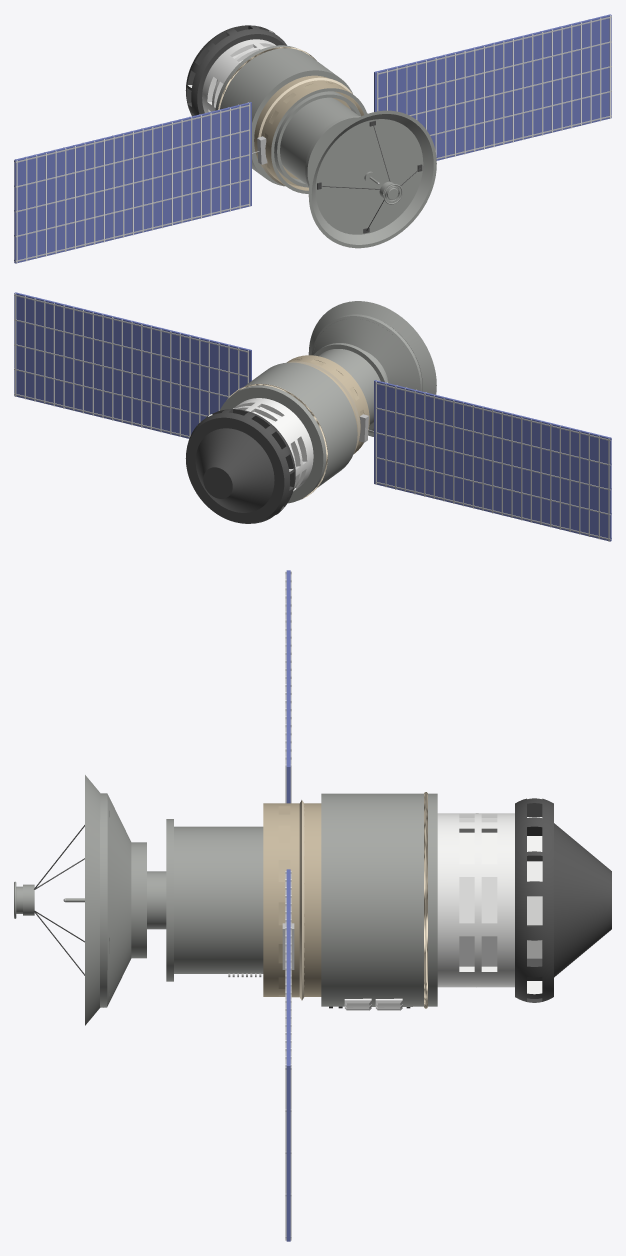
Rendered from satTest02.glb.
The picture shows the model from 3 angles, top to bottom: view 1: azimuth 30°, elevation 25°; view 2: azimuth 150°, elevation 25°; view 3: azimuth 270°, elevation 25°; orthographic projection. The views are drawn at different scales.
Visible parts, largest first — view 1: Body175, Body66, Body43, Body4, Body25, Body27, Body1, Body3, Body26, Body28, Body30, Body203 (+8 smaller); view 2: Body175, Body66, Body4, Body2, Body1, Body42, Body43, Body3, Body27, Body25, Body28, Body170 (+11 smaller); view 3: Body4, Body3, Body27, Body25, Body1, Body2, Body42, Body43, Body66, Body44, Body28, Body39 (+4 smaller).
Part boxes in pixels (left/top/right/bottom): Body175: left=14, top=102, right=251, bottom=263; Body66: left=374, top=14, right=611, bottom=160; Body43: left=308, top=110, right=436, bottom=248; Body4: left=215, top=45, right=352, bottom=186; Body25: left=254, top=75, right=367, bottom=193; Body27: left=280, top=97, right=358, bottom=185; Body1: left=185, top=25, right=286, bottom=116; Body3: left=202, top=39, right=275, bottom=112; Body26: left=274, top=91, right=360, bottom=187; Body28: left=305, top=116, right=360, bottom=187; Body30: left=258, top=77, right=352, bottom=185; Body203: left=15, top=154, right=249, bottom=212; Body175: left=374, top=380, right=611, bottom=541; Body66: left=14, top=292, right=251, bottom=438; Body4: left=220, top=362, right=357, bottom=503; Body2: left=195, top=428, right=274, bottom=512; Body1: left=185, top=409, right=295, bottom=523; Body42: left=311, top=316, right=420, bottom=432; Body43: left=308, top=301, right=436, bottom=436; Body3: left=233, top=398, right=313, bottom=491; Body27: left=318, top=349, right=380, bottom=425; Body25: left=287, top=355, right=369, bottom=453; Body28: left=313, top=343, right=387, bottom=430; Body170: left=14, top=319, right=247, bottom=377; Body4: left=321, top=793, right=437, bottom=1006; Body3: left=437, top=813, right=514, bottom=987; Body27: left=174, top=826, right=263, bottom=973; Body25: left=263, top=803, right=321, bottom=997; Body1: left=515, top=798, right=553, bottom=1002; Body2: left=554, top=823, right=611, bottom=977; Body42: left=107, top=794, right=131, bottom=1006; Body43: left=85, top=775, right=100, bottom=1025; Body66: left=286, top=869, right=290, bottom=1241; Body44: left=100, top=793, right=107, bottom=1007; Body28: left=166, top=819, right=173, bottom=981; Body39: left=147, top=871, right=166, bottom=929.
Size of the model in its own units: 0.3025 by 0.065 by 0.1543.
